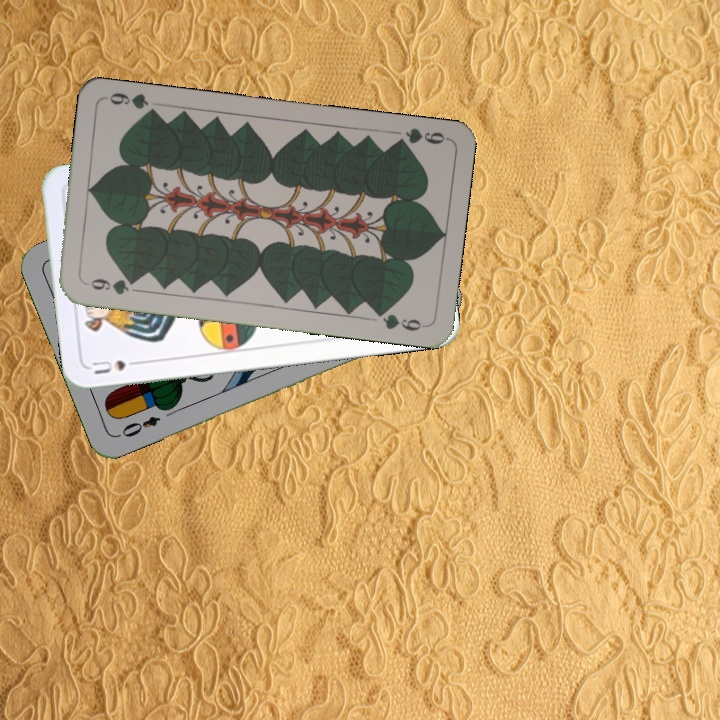EO: (113, 412, 163, 440)
G9: (389, 124, 450, 149), (80, 274, 139, 298)
SU: (88, 354, 146, 377)
